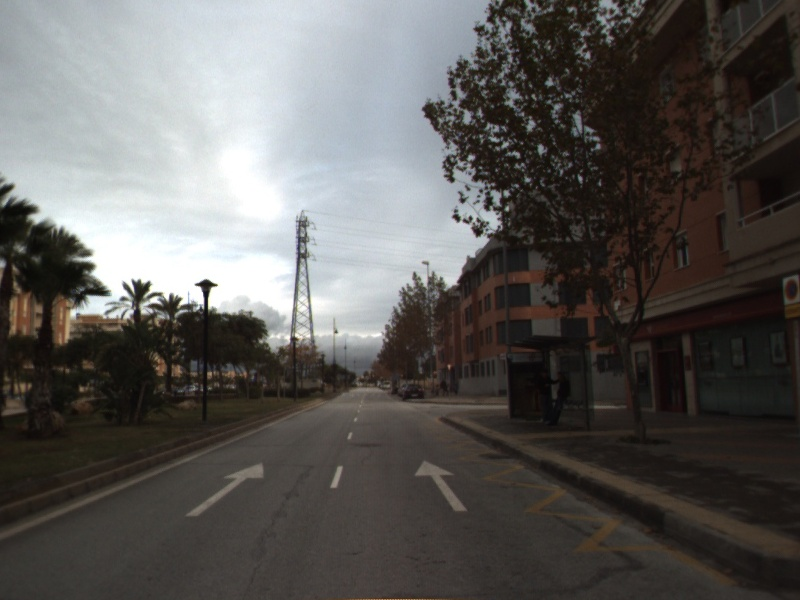STRAIGHT: (183, 461, 265, 518), (413, 458, 469, 513)
